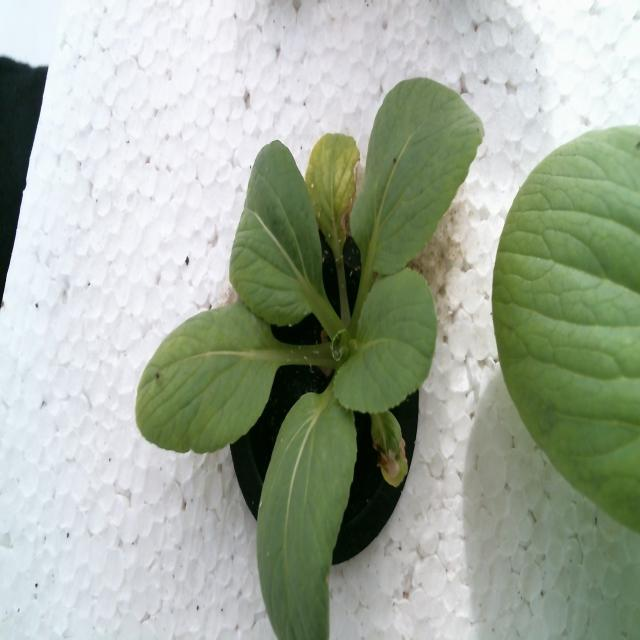pakcoy_tidak_sehat: (137, 47, 486, 640)
